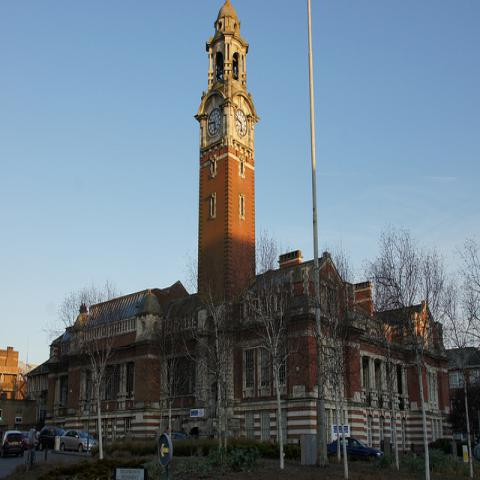car: (326, 436, 384, 462), (60, 429, 98, 452), (38, 426, 67, 451), (0, 431, 24, 458), (20, 431, 39, 450)
